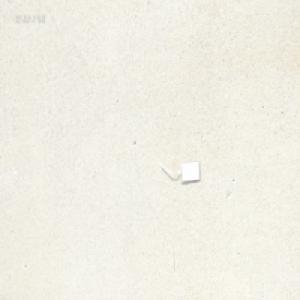LuggageTag: (159, 158, 200, 185)
